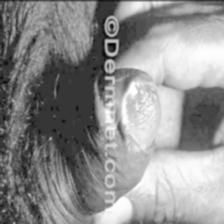Toxin: (120, 52, 162, 166)
